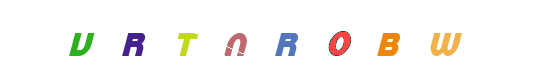0: (299, 0, 379, 80)
B: (312, 0, 392, 80)
N: (234, 0, 314, 80)
R: (119, 0, 199, 80), (239, 0, 319, 80)
T: (196, 0, 276, 80)
V: (41, 0, 121, 80)
W: (348, 0, 428, 80)
